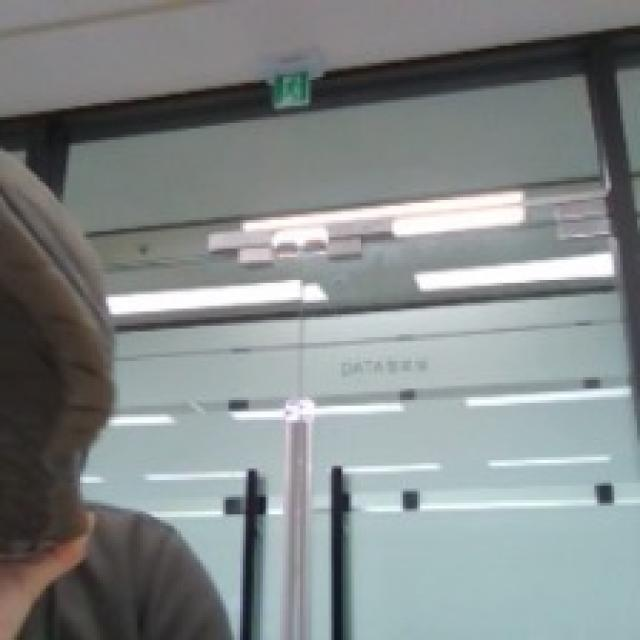shoe: (1, 119, 140, 587)
